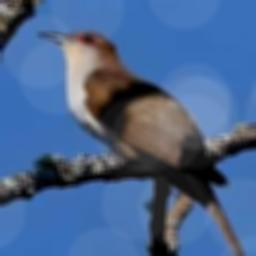Cuckoo: (37, 31, 256, 256)
